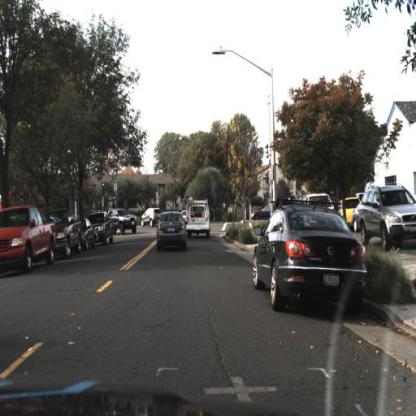car: (252, 196, 369, 312), (254, 201, 368, 312), (1, 204, 59, 277), (360, 187, 416, 252), (45, 202, 83, 262), (154, 208, 188, 256), (51, 208, 83, 258), (186, 195, 213, 243), (88, 208, 116, 248), (109, 205, 141, 237), (247, 202, 281, 224), (79, 216, 97, 256), (306, 191, 335, 214), (141, 203, 162, 229)
trafficLight-Green: (112, 188, 120, 206)
truck: (184, 204, 211, 239)
